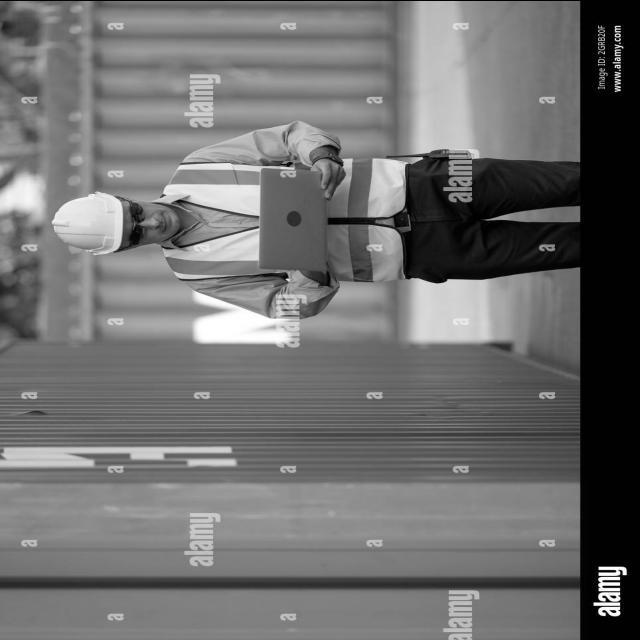safety_helmet: (53, 188, 125, 255)
